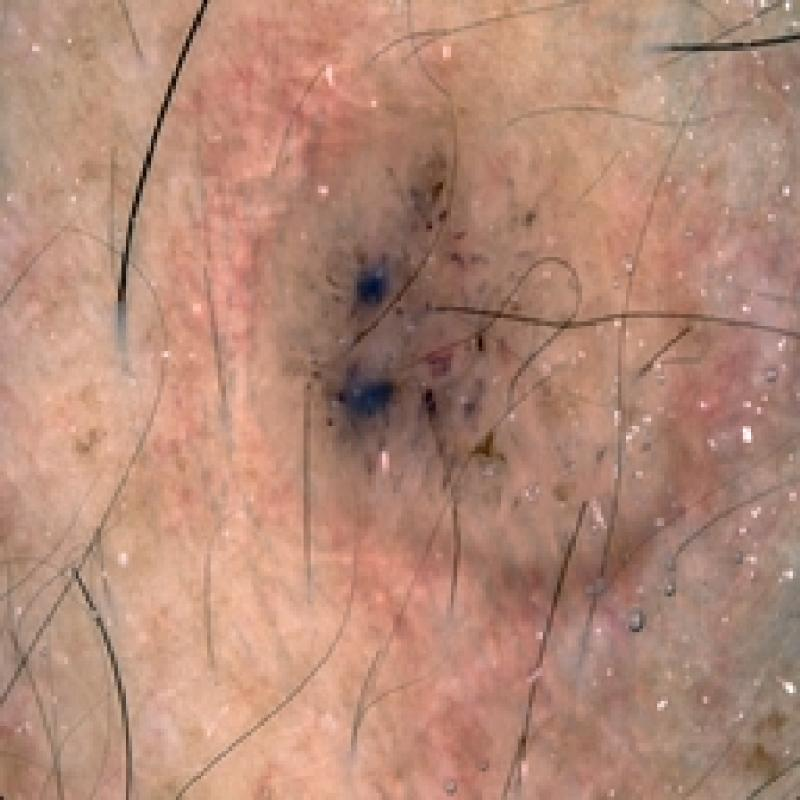malignant: (226, 111, 658, 580), (710, 620, 711, 620)
